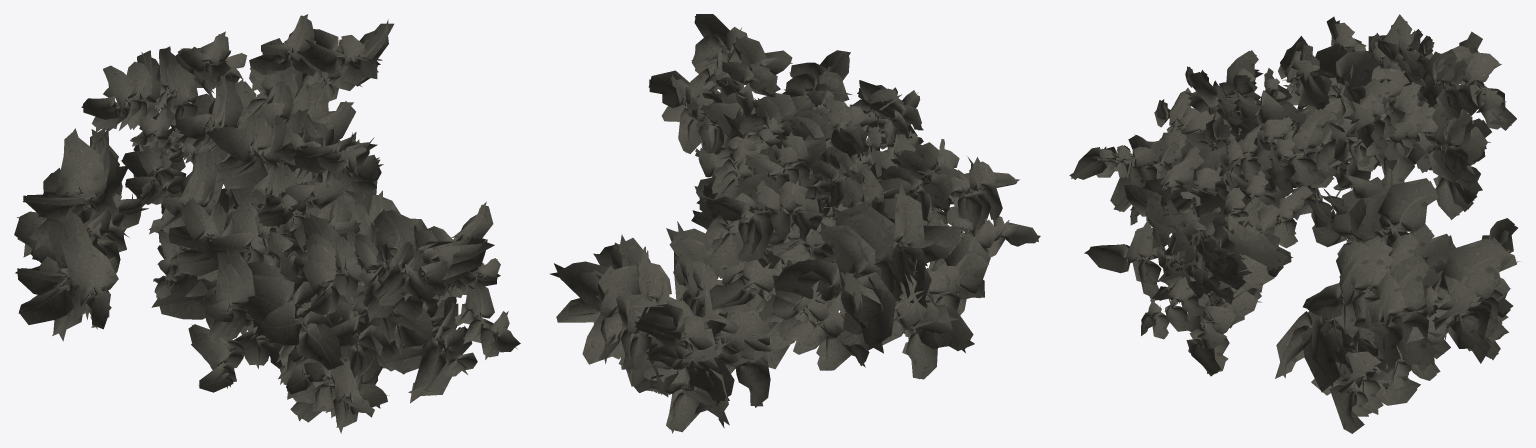
Rendered from winter.glb.
3 renders of one model, left to right at view 1: azimuth 30°, elevation 25°; view 2: azimuth 150°, elevation 25°; view 3: azimuth 270°, elevation 25°, orthographic. The views are drawn at different scales.
Parts seen in each view (by area): view 1: Large_oak_tree_002_LOD0.002_Cluster_Mat Winter EX_0; view 2: Large_oak_tree_002_LOD0.002_Cluster_Mat Winter EX_0; view 3: Large_oak_tree_002_LOD0.002_Cluster_Mat Winter EX_0.
Part boxes in pixels (x1,y1,x2,y2): Large_oak_tree_002_LOD0.002_Cluster_Mat Winter EX_0: (14,14,520,433); Large_oak_tree_002_LOD0.002_Cluster_Mat Winter EX_0: (550,14,1040,433); Large_oak_tree_002_LOD0.002_Cluster_Mat Winter EX_0: (1069,14,1519,433).
Bounding box in the file's own units: 24.51 × 22.78 × 24.98.
1 material, 1 textured.
